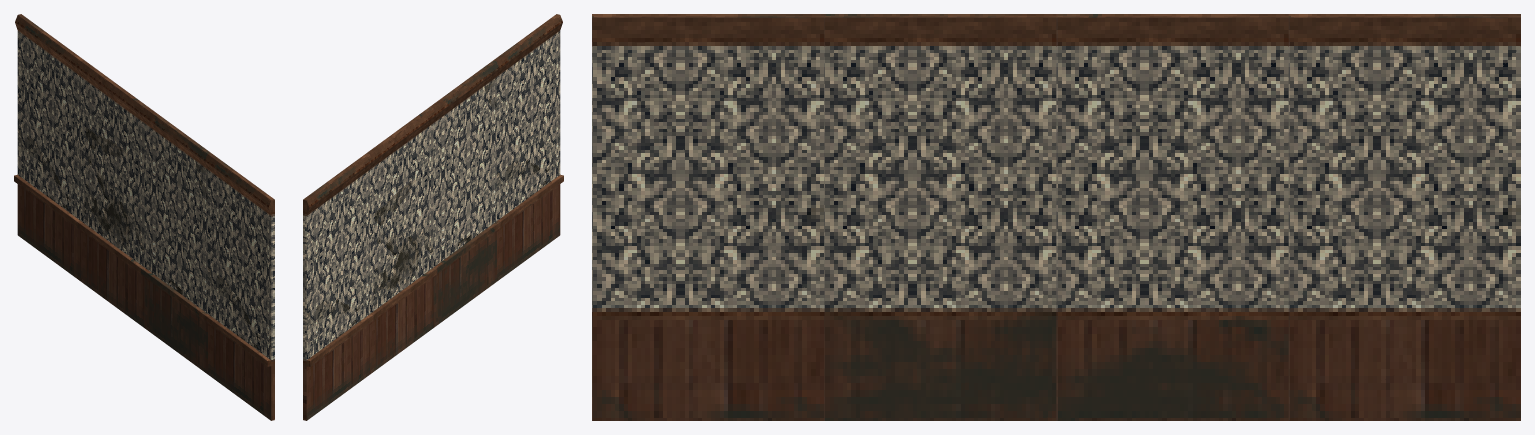
File: SM_Wall_A.glb
3 views of the same model, side by side, from view 1: azimuth 30°, elevation 25°; view 2: azimuth 150°, elevation 25°; view 3: azimuth 270°, elevation 25° (orthographic). The views are drawn at different scales.
Parts seen in each view (by area): view 1: SM_Wall_A; view 2: SM_Wall_A; view 3: SM_Wall_A.
Part boxes in pixels (<box>): SM_Wall_A: <box>14,14,274,420</box>; SM_Wall_A: <box>303,14,563,420</box>; SM_Wall_A: <box>592,14,1520,420</box>.
Bounding box in the file's own units: 0.2 × 5.76 × 12.
Materials: 3 (3 with a texture image).
